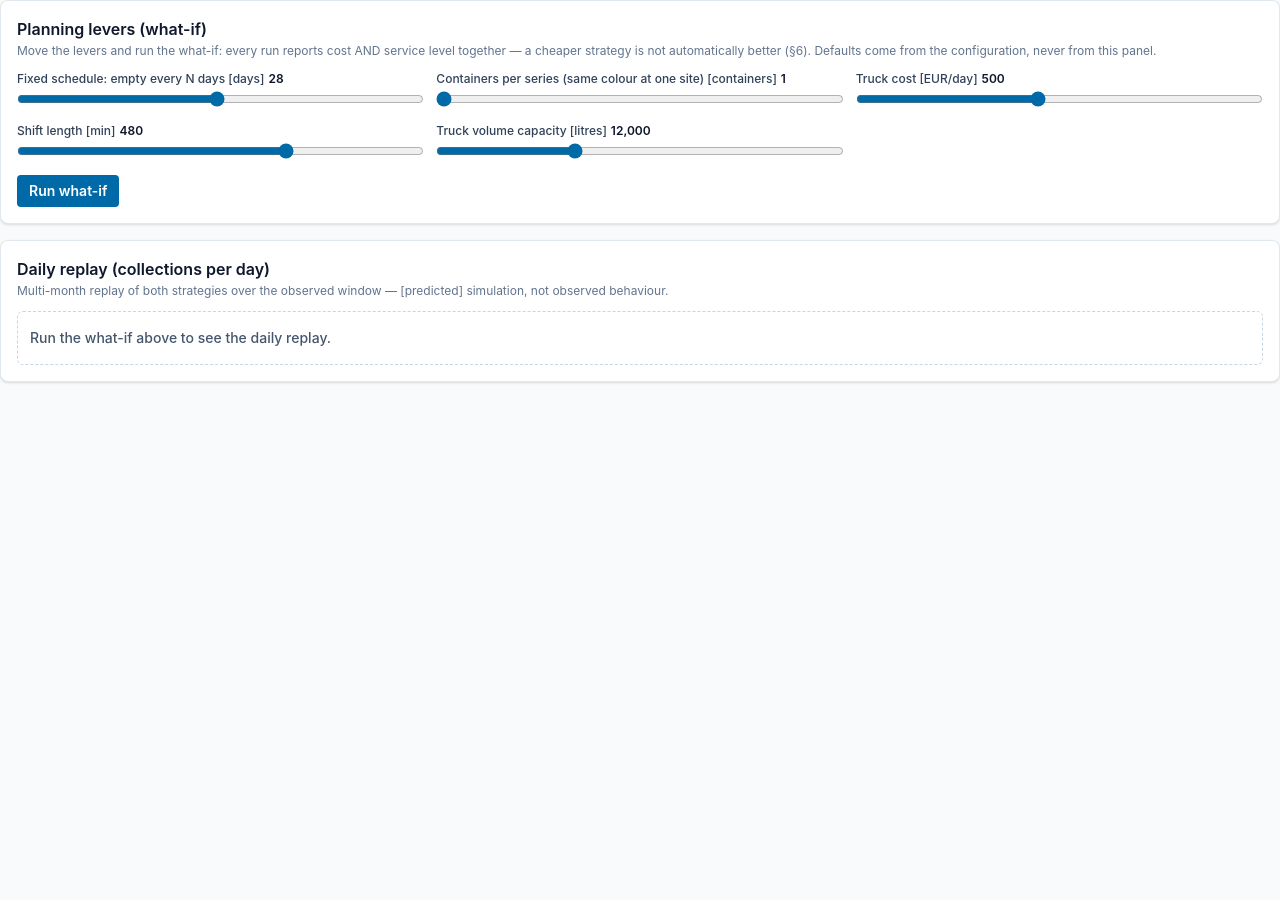
Test: ScenariosPanel — results (§6 cost + service together) › renders anchor, both strategy cards with service rows, TechDetails echo
This screenshot has width=1280, height=900.
Click the button with test id "scenarios-run": (68, 191) [17,175,120,207]
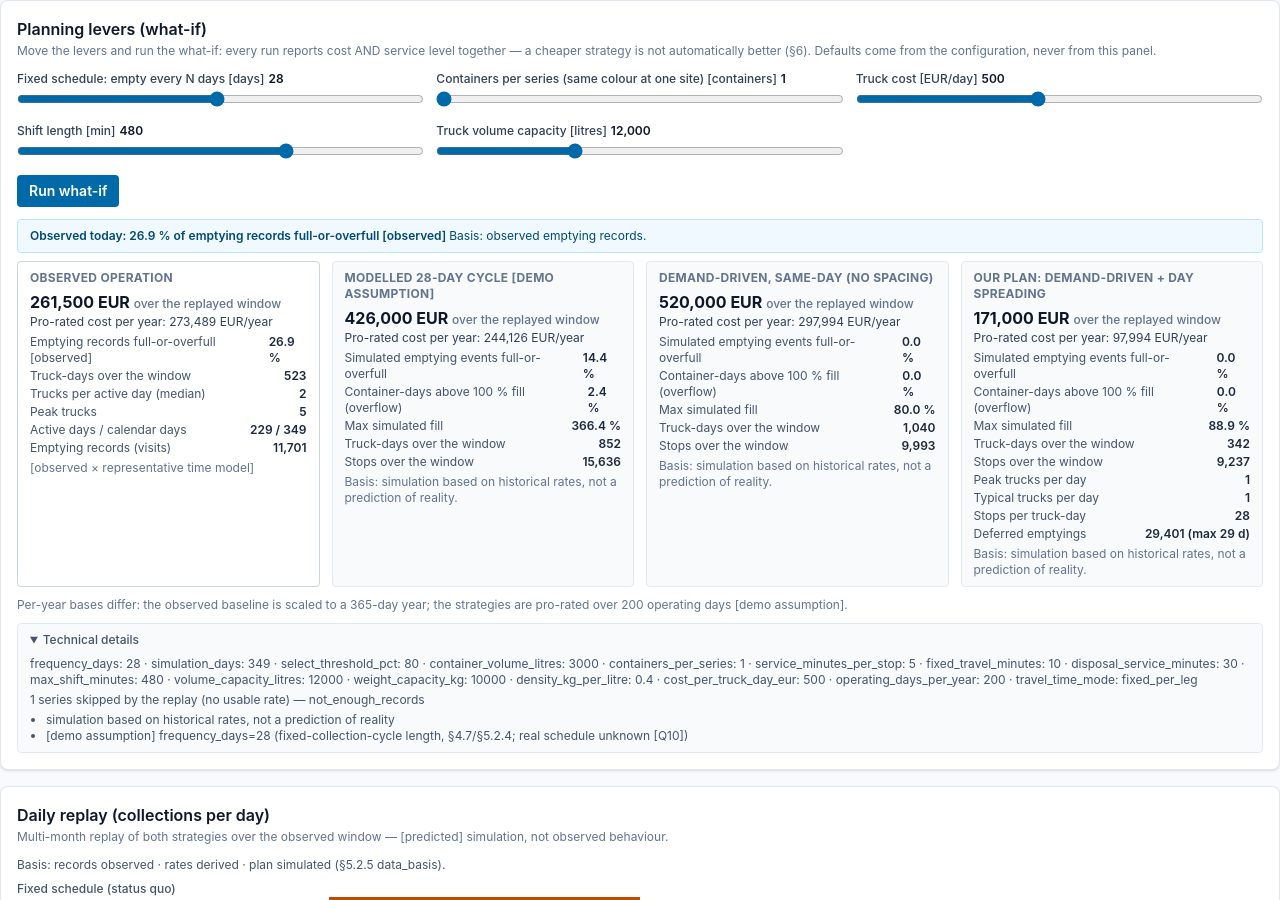
Expected: the element with test id "scenarios-anchor" shows "26.9 %", [30,228,446,243]
Expected: the element with test id "scenarios-anchor" shows "observed emptying records", [449,228,646,243]
Expected: the element with test id "scenarios-strategy-fixed" shows "426,000 EUR", [332,261,634,587]
